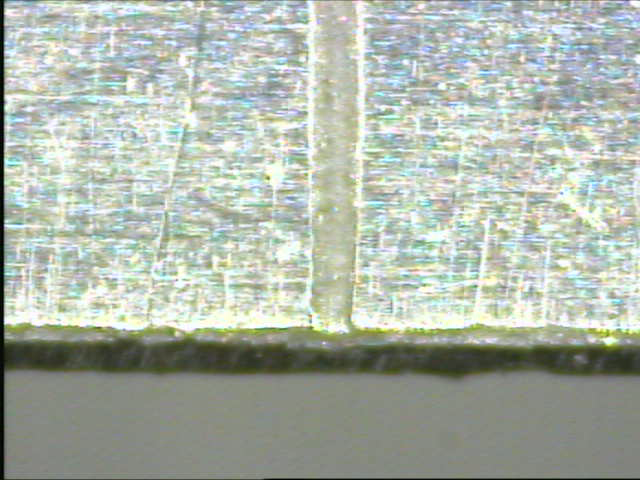line: (307, 1, 365, 336)
